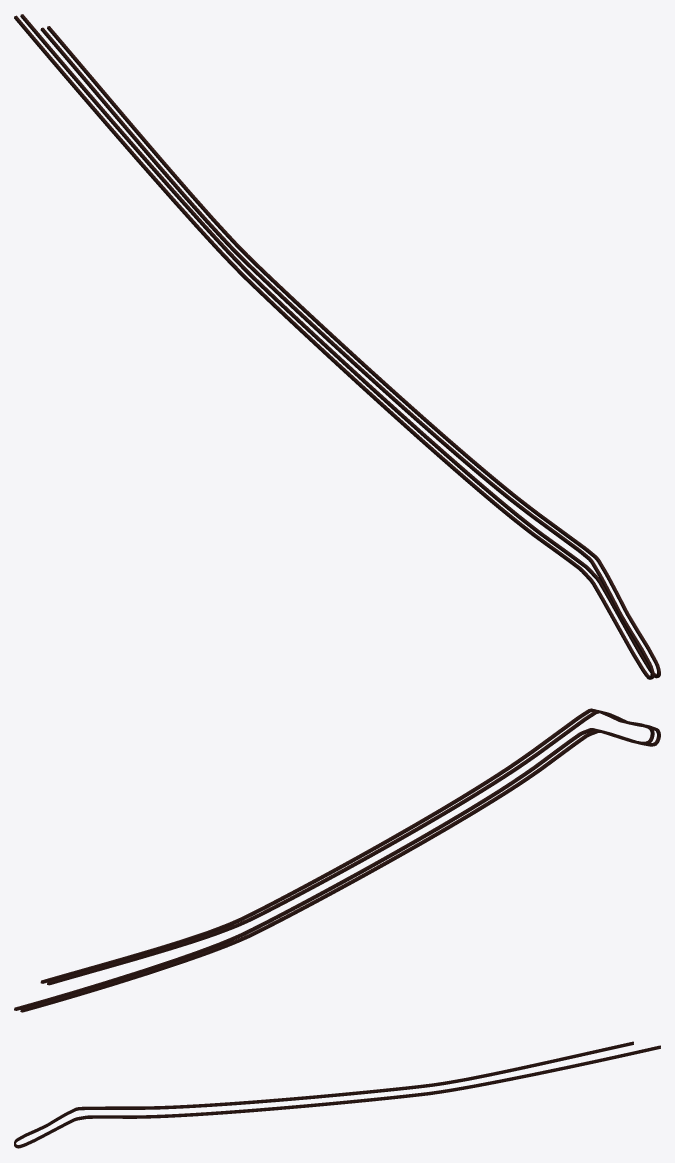
File: cable_teleferico.fbx
3 renders of one model, top to bottom at view 1: azimuth 30°, elevation 25°; view 2: azimuth 150°, elevation 25°; view 3: azimuth 270°, elevation 25°, orthographic. The views are drawn at different scales.
Parts seen in each view (by area): view 1: cable_t; view 2: cable_t; view 3: cable_t.
Boxes of the visible parts, x1,y1,x2,y2 form: cable_t: (14, 14, 660, 679); cable_t: (14, 708, 660, 1012); cable_t: (14, 1041, 660, 1148).
Bounding box in the file's own units: 31.29 × 702 × 3925.
